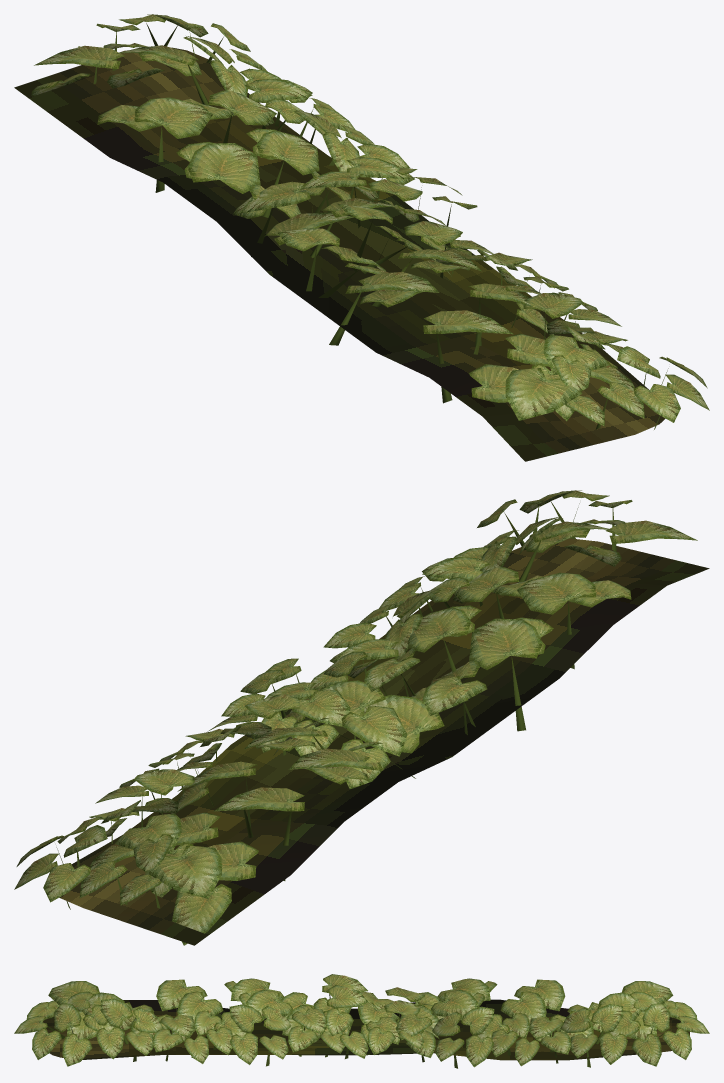
Rendered from Plants_1x5_A.FBX.
3 views of the same model, one above another, from view 1: azimuth 30°, elevation 25°; view 2: azimuth 150°, elevation 25°; view 3: azimuth 270°, elevation 25° (orthographic). The views are drawn at different scales.
Parts seen in each view (by area): view 1: Plants_1x5_A; view 2: Plants_1x5_A; view 3: Plants_1x5_A.
Part boxes in pixels (x1=…): Plants_1x5_A: x1=14, y1=14, x2=709, y2=461; Plants_1x5_A: x1=14, y1=490, x2=709, y2=945; Plants_1x5_A: x1=14, y1=974, x2=709, y2=1068.
Size of the model in its own units: 1.15 by 0.4791 by 5.14.
